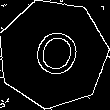O_S: (23, 22, 83, 86)
